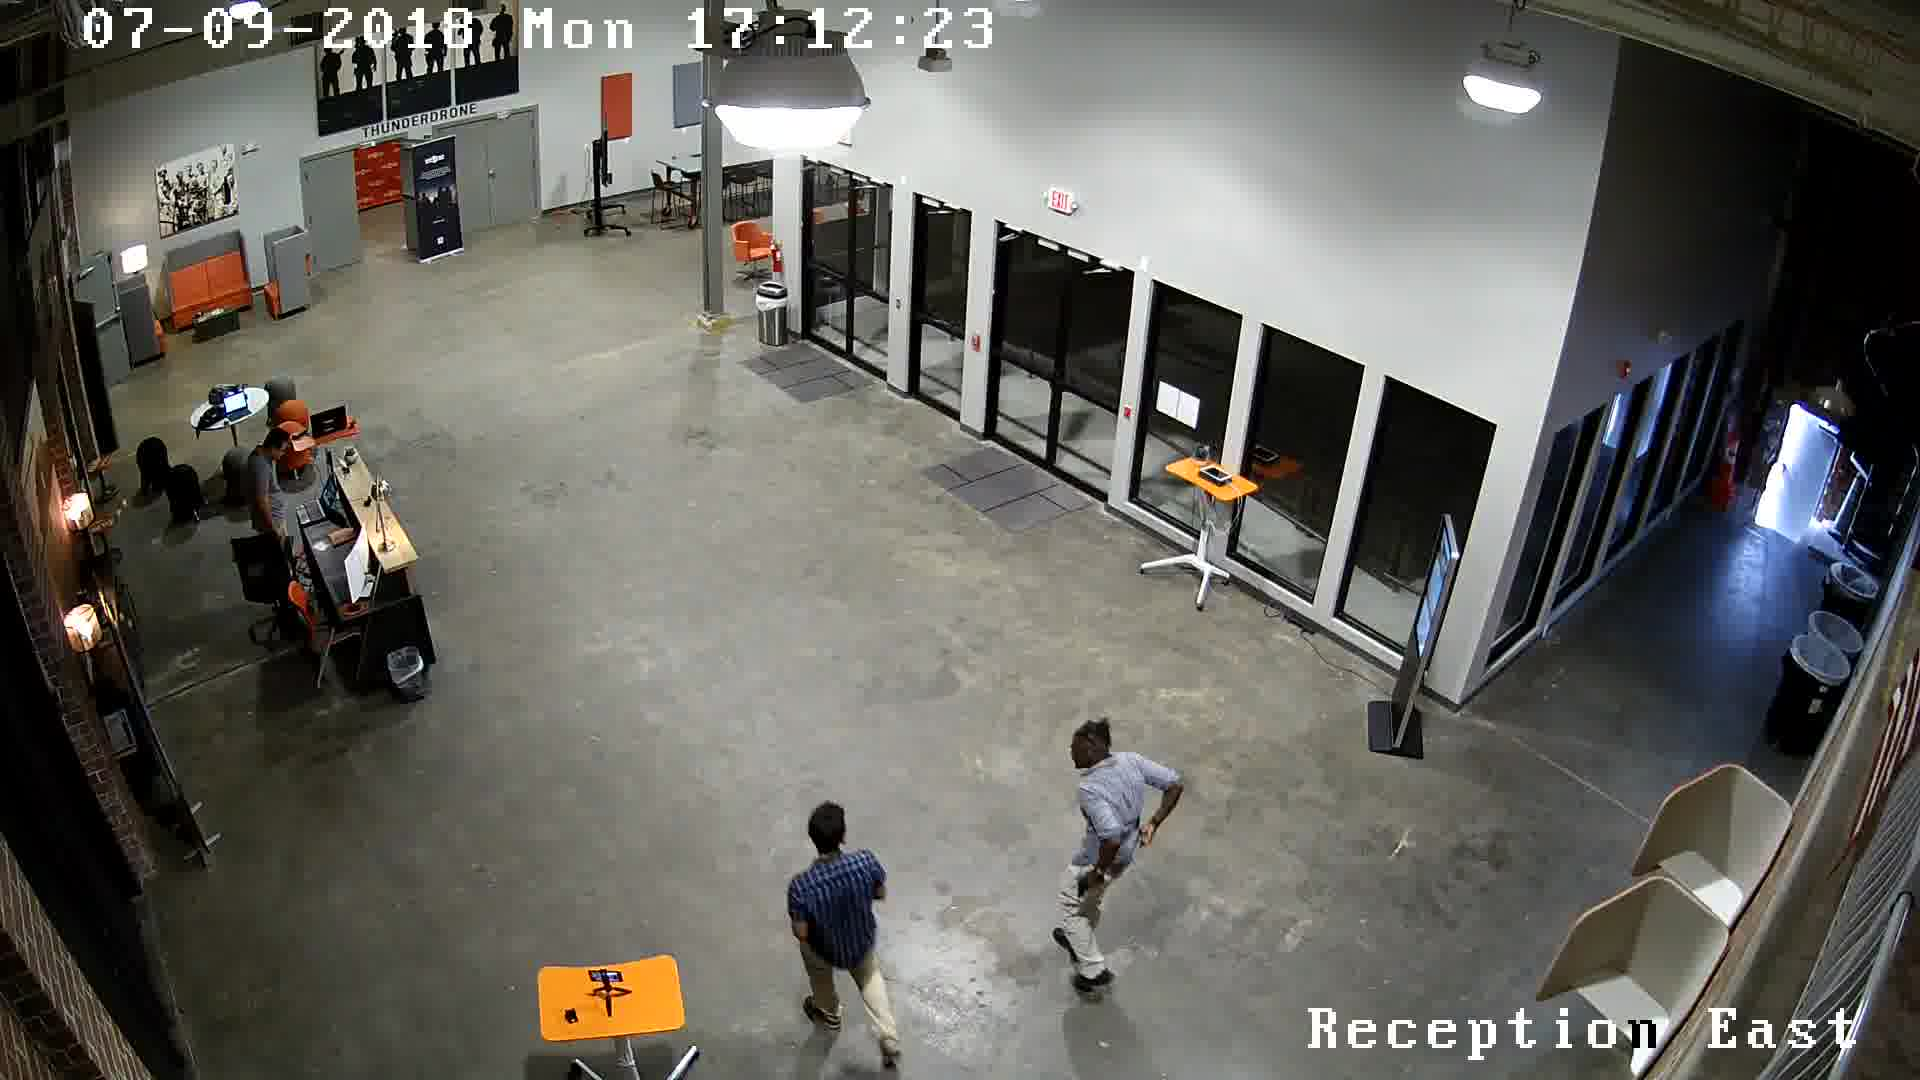pistol: (1064, 866, 1120, 909)
